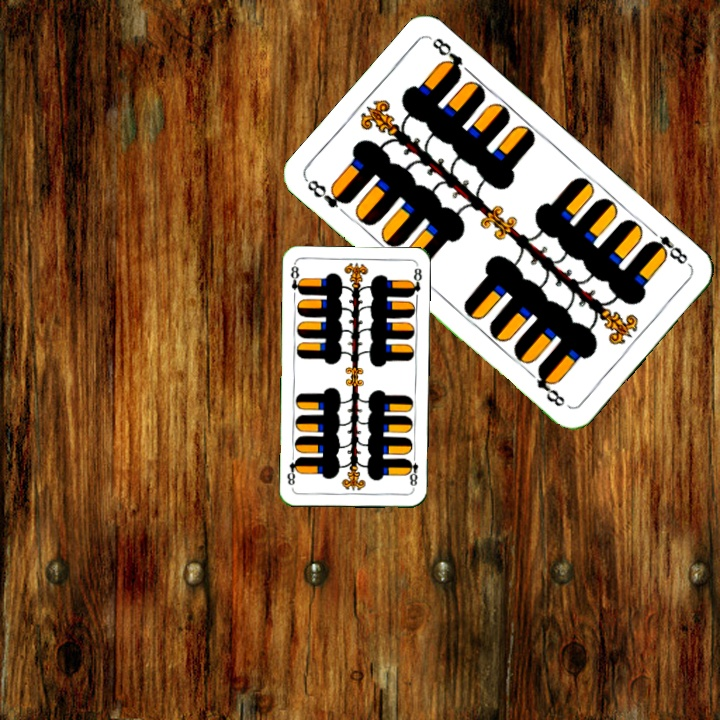E8: (642, 224, 691, 267), (302, 175, 353, 211), (286, 261, 305, 297), (403, 451, 421, 488)
